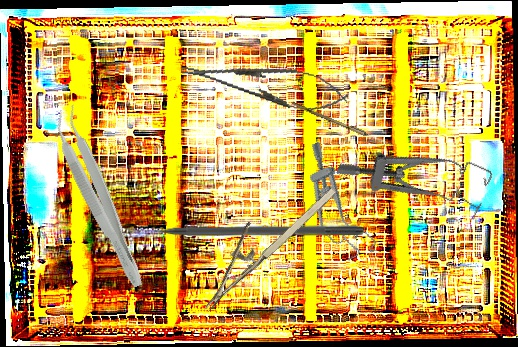Needle Holder: (179, 165, 341, 314), (177, 48, 352, 119)
Pusher: (125, 223, 364, 236)
Speculum: (335, 115, 495, 232), (287, 137, 380, 268)
Surgical Spoon: (291, 101, 394, 148)
Tissue Forceps: (45, 103, 157, 292)
